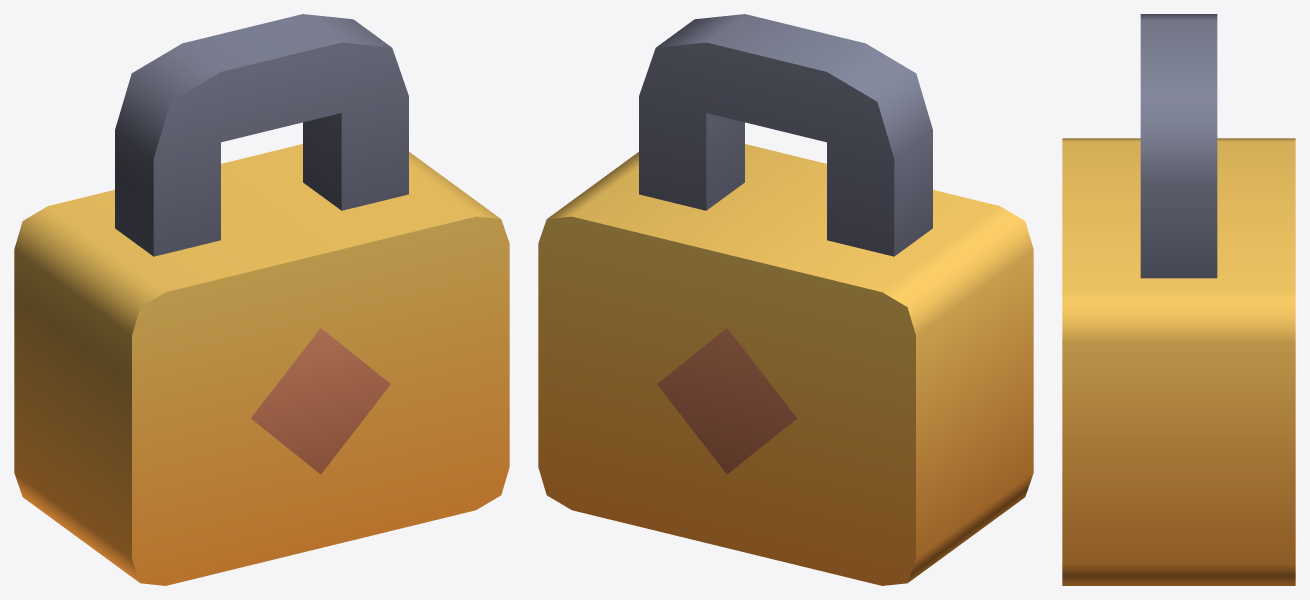
Rendered from lock.glb.
3 views of the same model, side by side, from view 1: azimuth 30°, elevation 25°; view 2: azimuth 150°, elevation 25°; view 3: azimuth 270°, elevation 25° (orthographic).
Visible parts, largest first — view 1: lock; view 2: lock; view 3: lock.
Boxes of the visible parts, x1,y1,x2,y2 form: lock: (14,14,509,585); lock: (538,14,1033,585); lock: (1062,14,1295,585).
Bounding box in the file's own units: 0.3433 × 0.4012 × 0.1853.
1 material, 1 textured.
